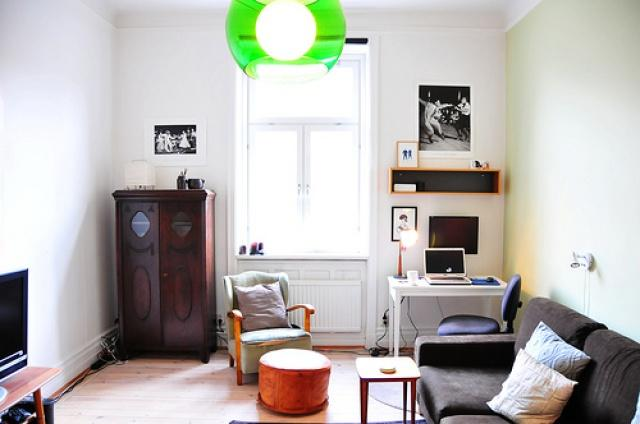Lemari: (110, 188, 218, 361)
Meja: (387, 273, 508, 307)
